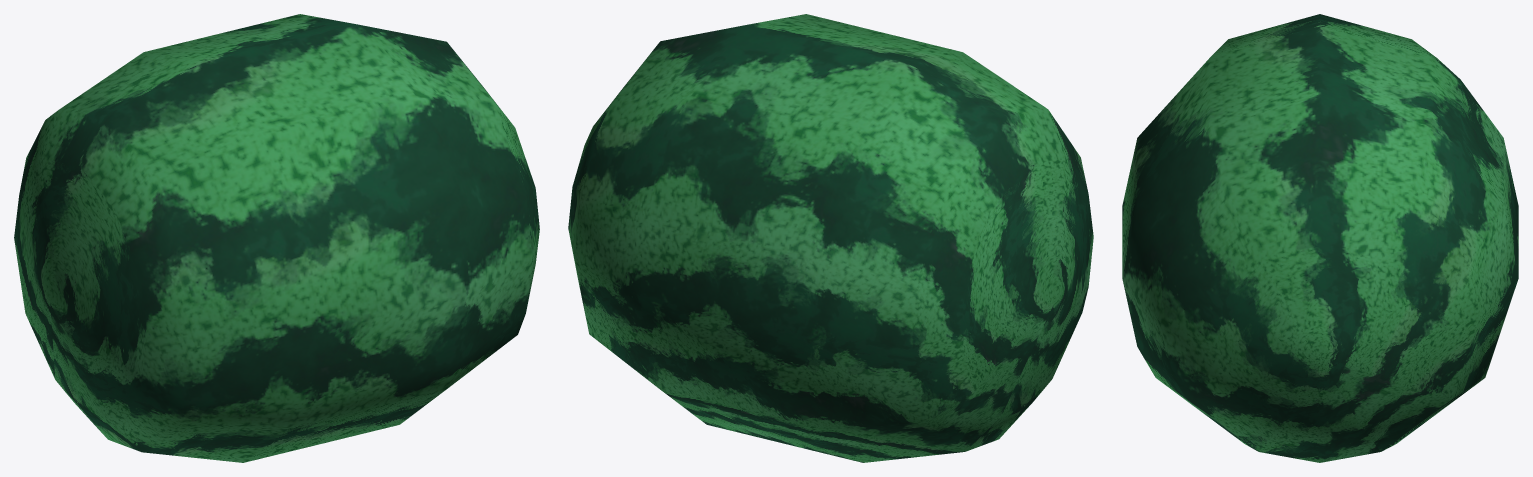
Rendered from mdl_Melone.fbx.
The picture shows the model from 3 angles, left to right: view 1: azimuth 30°, elevation 25°; view 2: azimuth 150°, elevation 25°; view 3: azimuth 270°, elevation 25°; orthographic projection. The views are drawn at different scales.
Parts seen in each view (by area): view 1: Cylinder.003; view 2: Cylinder.003; view 3: Cylinder.003.
Boxes of the visible parts, x1,y1,x2,y2 form: Cylinder.003: [14, 14, 539, 462]; Cylinder.003: [568, 14, 1093, 462]; Cylinder.003: [1122, 14, 1518, 462].
Size of the model in its own units: 206 by 162 by 162.
